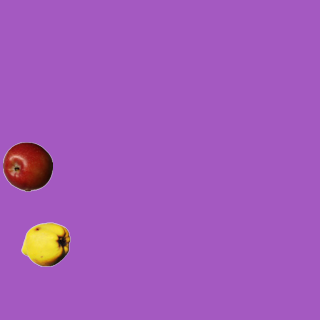Apple Braeburn: (2, 141, 52, 191)
Quince: (20, 219, 70, 269)
